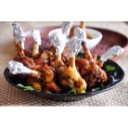chicken_lollipop: (7, 22, 65, 89), (79, 21, 108, 83), (63, 40, 88, 93)
